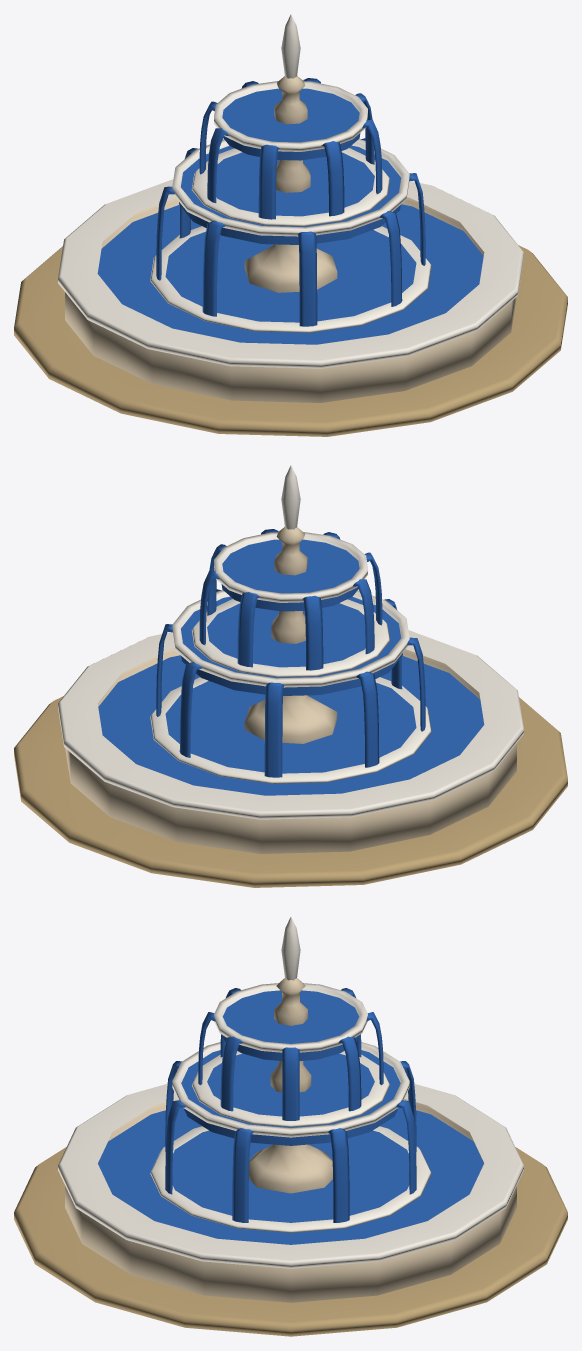
File: fountain.glb
The picture shows the model from 3 angles, top to bottom: view 1: azimuth 30°, elevation 25°; view 2: azimuth 150°, elevation 25°; view 3: azimuth 270°, elevation 25°; orthographic projection.
Parts seen in each view (by area): view 1: step, pool, rim, basin, bowl-water, falls, foam, bowls, column, jet; view 2: step, pool, rim, basin, bowl-water, falls, foam, bowls, column, jet; view 3: step, pool, rim, basin, bowl-water, falls, foam, bowls, column, jet.
Part boxes in pixels (<box>): step: <box>14,245,567,436</box>; pool: <box>97,204,483,344</box>; rim: <box>58,179,523,368</box>; basin: <box>65,197,516,402</box>; bowl-water: <box>179,88,400,244</box>; falls: <box>156,78,425,326</box>; foam: <box>150,148,431,332</box>; bowls: <box>172,81,409,236</box>; column: <box>244,76,337,292</box>; jet: <box>281,14,300,78</box>; step: <box>14,696,567,887</box>; pool: <box>98,655,484,795</box>; rim: <box>58,630,523,819</box>; basin: <box>65,648,516,853</box>; bowl-water: <box>181,539,402,695</box>; falls: <box>156,529,425,777</box>; foam: <box>150,599,431,783</box>; bowls: <box>172,532,409,687</box>; column: <box>244,527,337,743</box>; jet: <box>281,465,300,529</box>; step: <box>14,1147,567,1336</box>; pool: <box>98,1107,483,1244</box>; rim: <box>58,1083,523,1268</box>; basin: <box>65,1099,516,1302</box>; bowl-water: <box>181,990,400,1145</box>; falls: <box>165,988,416,1222</box>; foam: <box>150,1051,431,1232</box>; bowls: <box>172,983,409,1137</box>; column: <box>249,978,332,1193</box>; jet: <box>281,917,300,980</box>.
Size of the model in its own units: 4.9 by 2.96 by 4.9.
